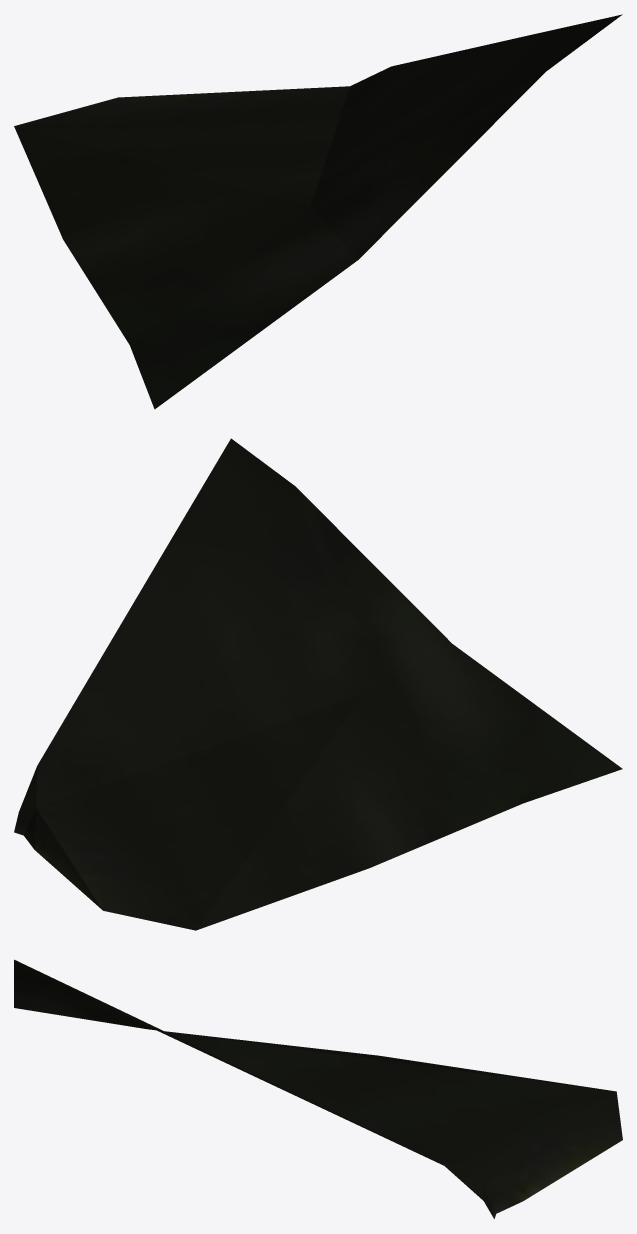
3 renders of one model, top to bottom at view 1: azimuth 30°, elevation 25°; view 2: azimuth 150°, elevation 25°; view 3: azimuth 270°, elevation 25°, orthographic. The views are drawn at different scales.
Bounding box in the file's own units: 0.23 × 0.1318 × 0.2798.
1 material, 1 textured.
